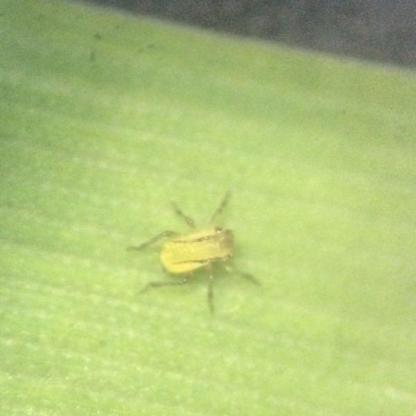aphid: (106, 193, 259, 298)
